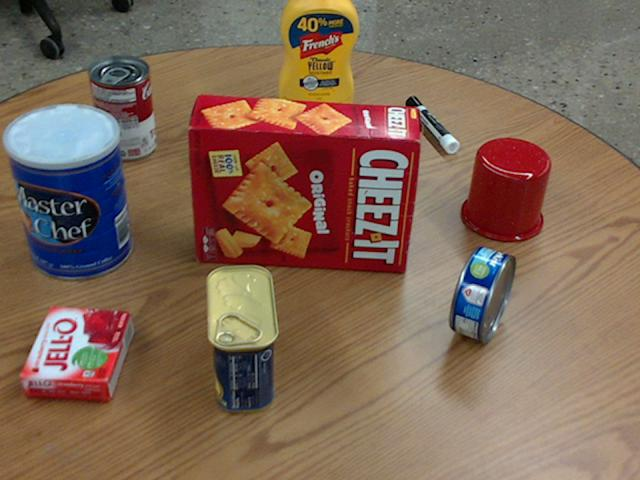cracker_box: (190, 95, 420, 272)
gelatin_box: (18, 306, 130, 399)
large_marker: (406, 95, 459, 153)
master_chef_can: (4, 104, 131, 280)
mug: (459, 137, 549, 241)
mustard_bottle: (279, 0, 358, 112)
potted_meat_can: (205, 264, 275, 411)
sugar_box: (207, 103, 366, 184)
tomato_soup_can: (88, 55, 155, 159)
tuna_fish_can: (450, 246, 514, 341)
